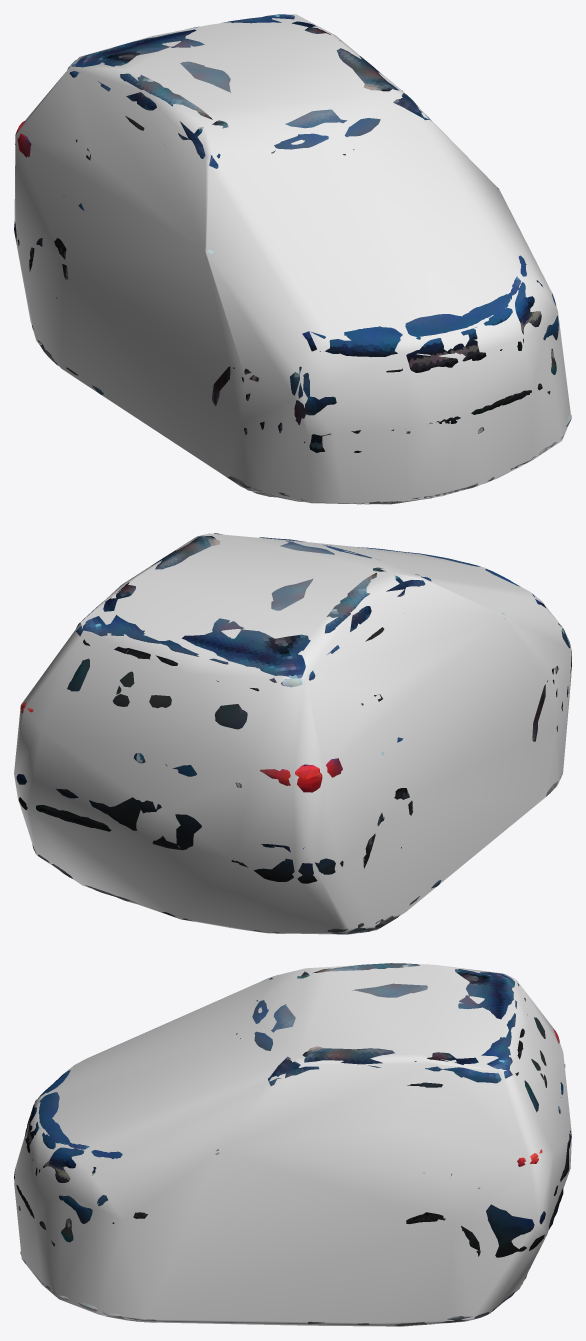
File: improved-prepared.glb
The picture shows the model from 3 angles, top to bottom: view 1: azimuth 30°, elevation 25°; view 2: azimuth 150°, elevation 25°; view 3: azimuth 270°, elevation 25°; orthographic projection. The views are drawn at different scales.
Visible parts, largest first — view 1: COL_Hull, geometry_0_LOD0; view 2: COL_Hull, geometry_0_LOD0; view 3: COL_Hull, geometry_0_LOD0.
Boxes of the visible parts, bbox=[...] form: COL_Hull: bbox=[14, 14, 570, 504]; geometry_0_LOD0: bbox=[14, 14, 571, 504]; COL_Hull: bbox=[14, 533, 571, 934]; geometry_0_LOD0: bbox=[16, 533, 571, 934]; COL_Hull: bbox=[14, 964, 571, 1326]; geometry_0_LOD0: bbox=[14, 963, 571, 1326].
Size of what is drawn, in the model's own units: 0.6432 by 0.5004 by 1.
1 material, 1 textured.
